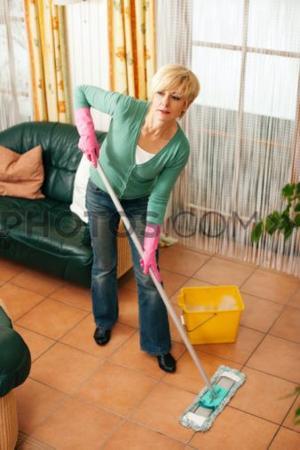person: (74, 64, 199, 374)
